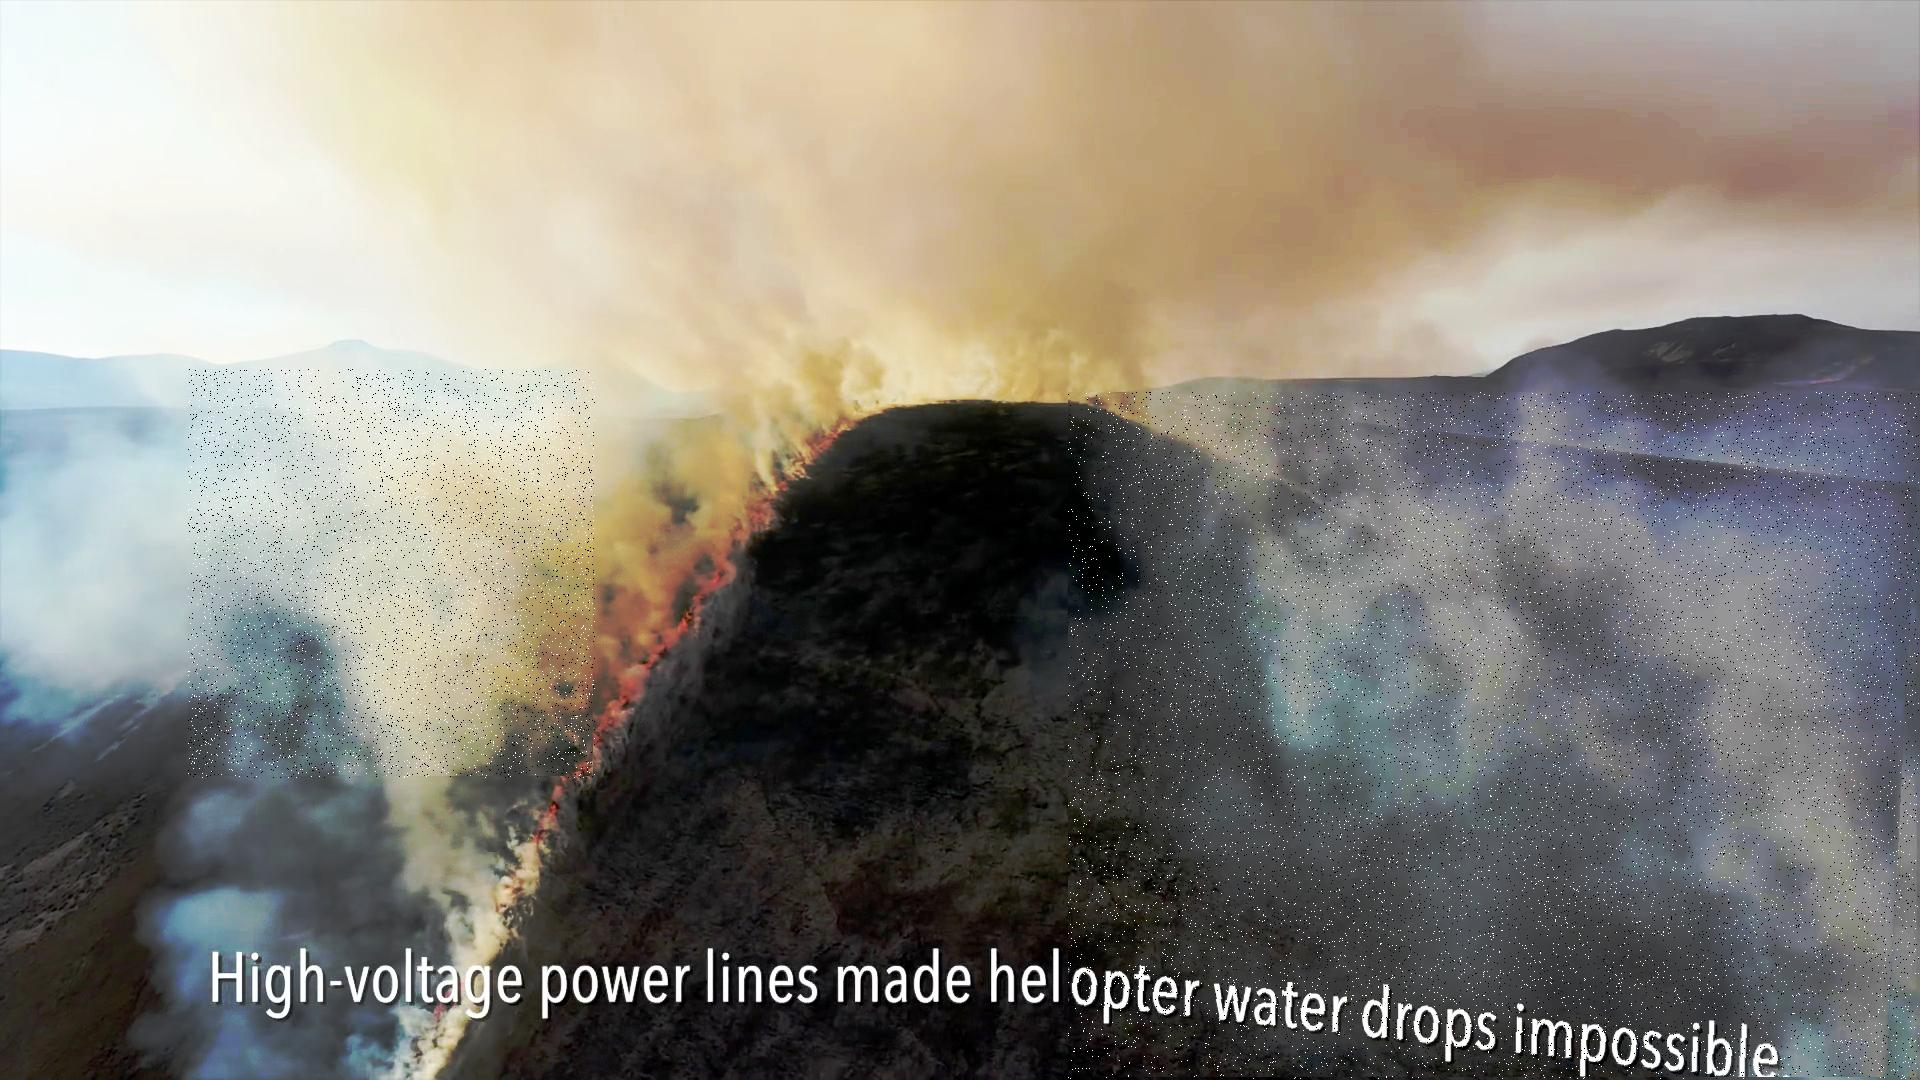smoke: (1068, 393, 1920, 1080), (189, 369, 596, 779)
